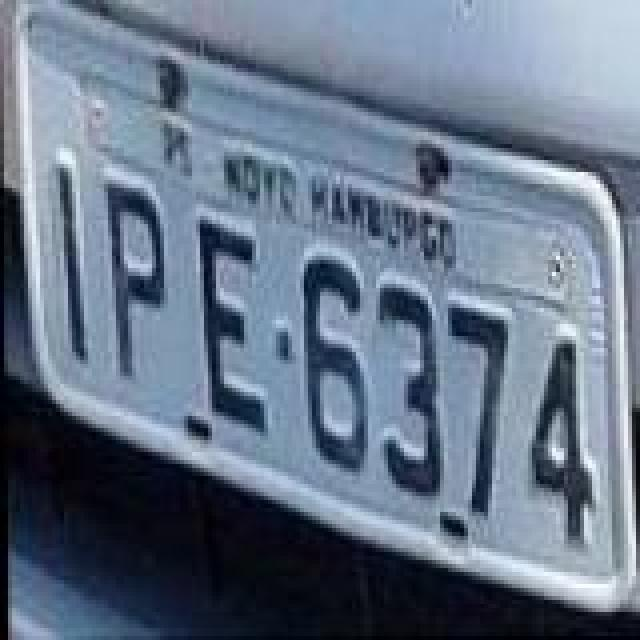1: (58, 160, 94, 368)
3: (374, 278, 442, 502)
4: (524, 338, 592, 550)
6: (296, 256, 368, 476)
7: (444, 304, 508, 524)
E: (192, 214, 264, 438)
P: (108, 174, 172, 386)
